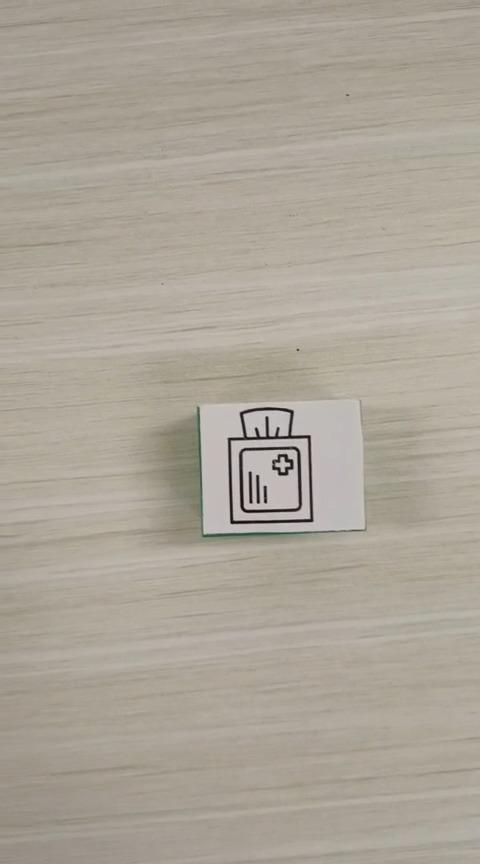Gauze: (195, 397, 366, 537)
